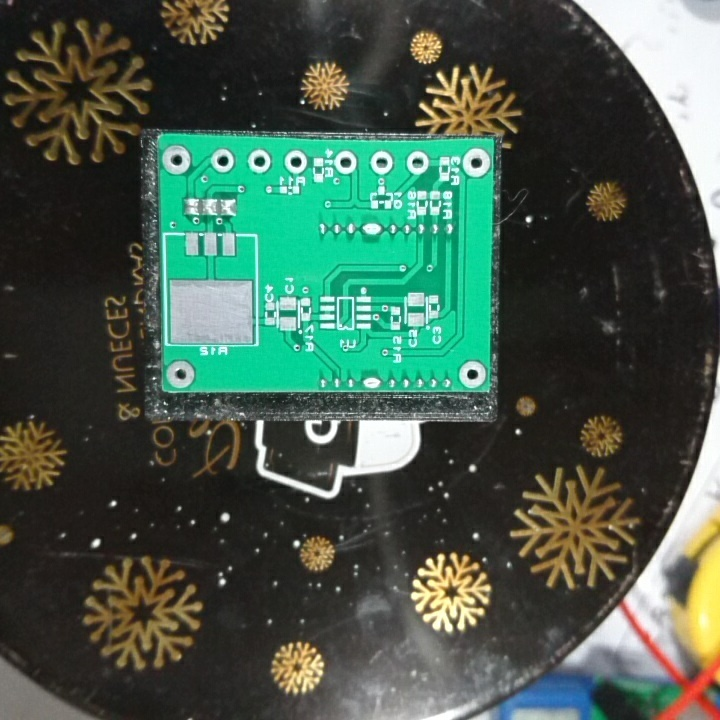F: (455, 357, 490, 392), (459, 146, 492, 183), (160, 143, 193, 178), (165, 358, 198, 391), (403, 146, 432, 181), (245, 146, 276, 178), (207, 146, 236, 177), (367, 150, 396, 178), (332, 147, 358, 178), (281, 149, 310, 176)
P: (358, 219, 383, 243), (361, 374, 384, 394)
